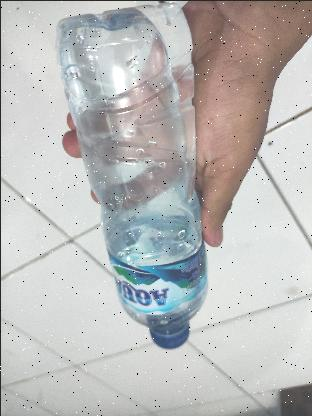Plastic Bottle: (52, 0, 214, 354)
